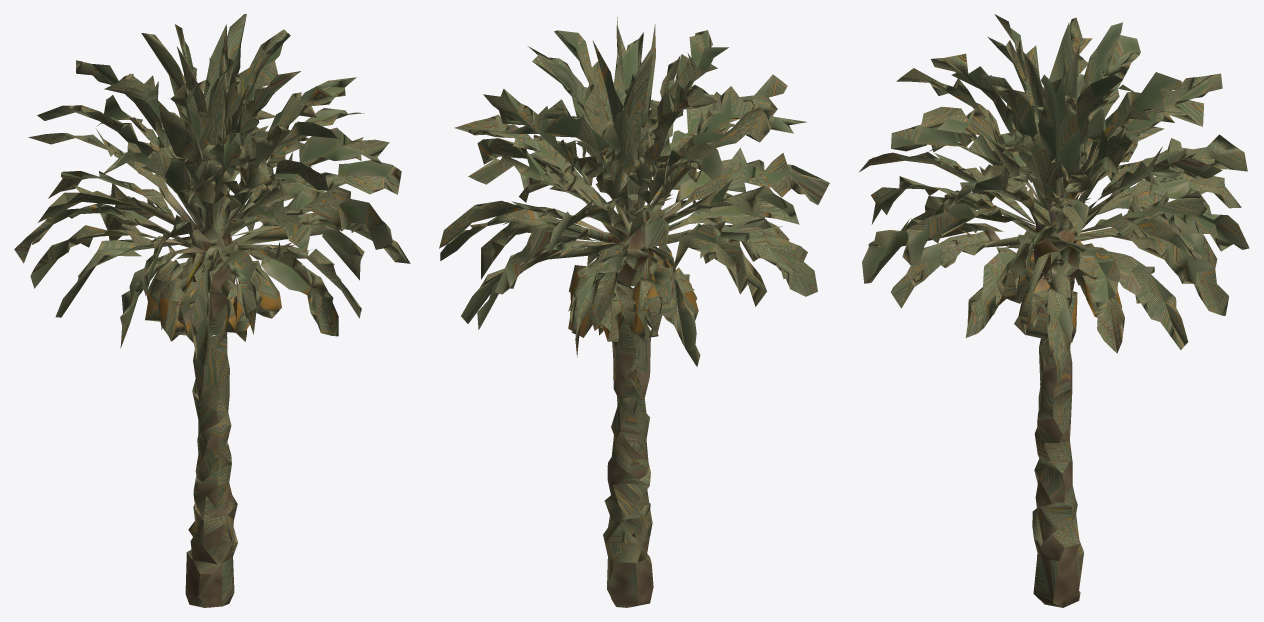
Rendered from date-palm.glb.
3 renders of one model, left to right at view 1: azimuth 30°, elevation 25°; view 2: azimuth 150°, elevation 25°; view 3: azimuth 270°, elevation 25°, orthographic.
Visible parts, largest first — view 1: world; view 2: world; view 3: world.
Boxes of the visible parts, left/top/right/bottom form: world: left=14, top=14, right=410, bottom=607; world: left=439, top=17, right=829, bottom=607; world: left=859, top=14, right=1249, bottom=607.
Size of the model in its own units: 0.6375 by 1 by 0.624.
1 material, 1 textured.
